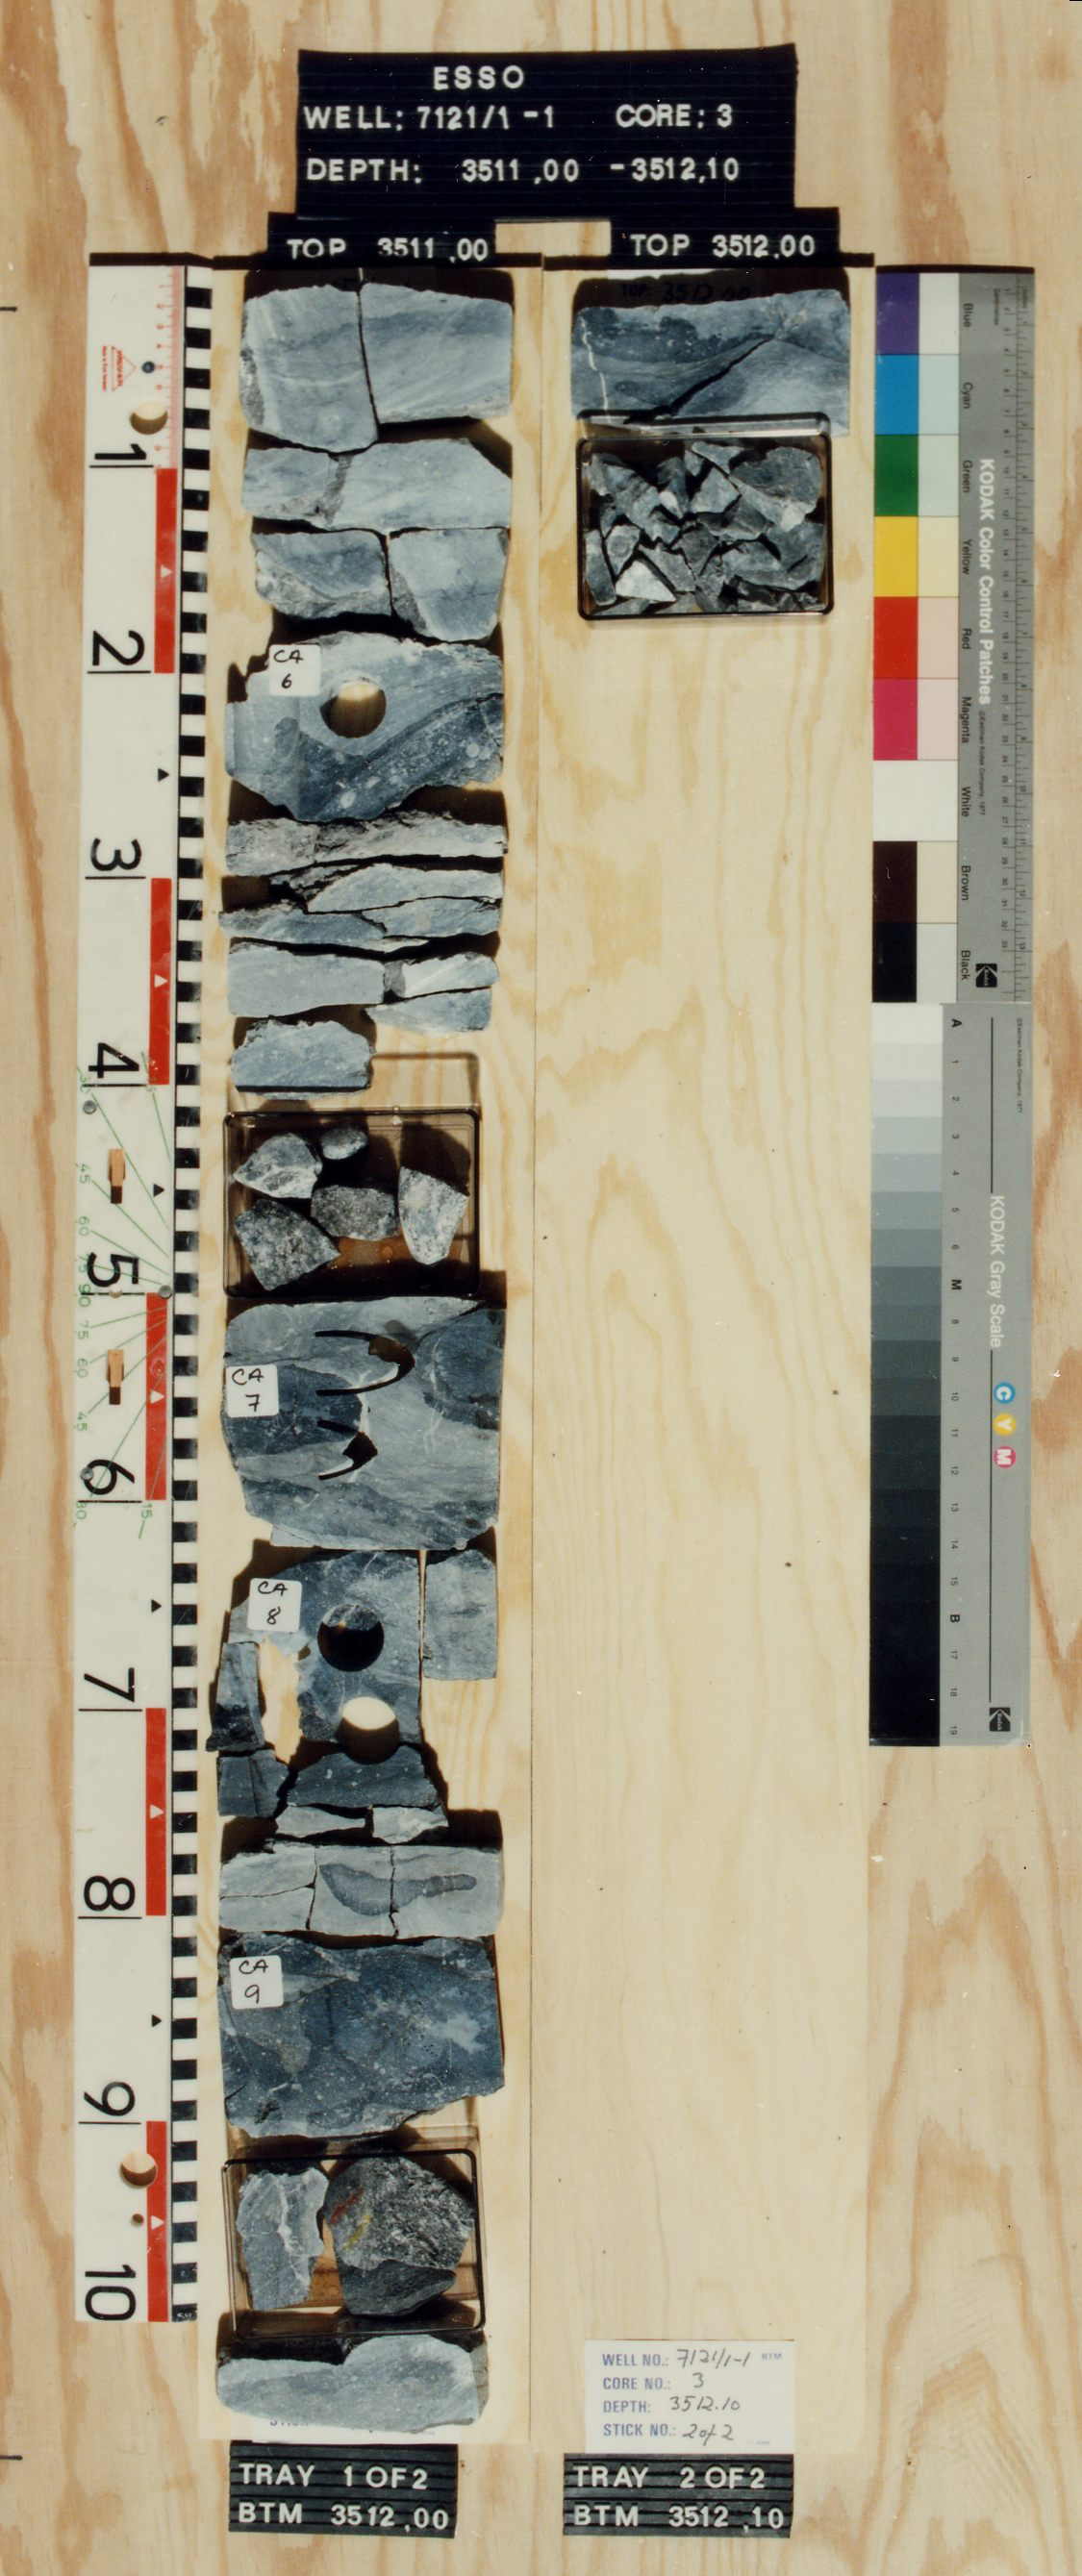core: (227, 284, 505, 2426), (569, 281, 852, 623)
